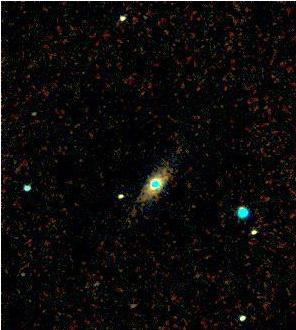star: (156, 158, 186, 188)
